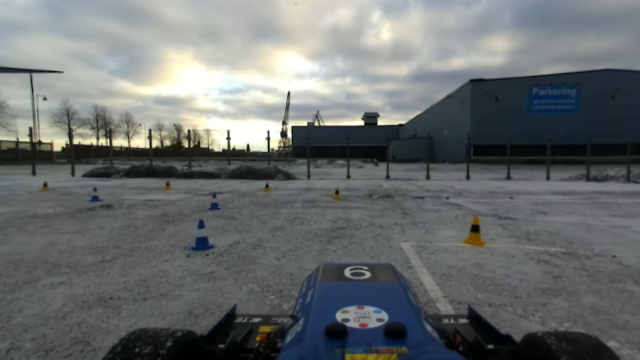blue: (187, 217, 216, 254), (87, 184, 102, 205), (208, 191, 220, 212)
yellow: (461, 213, 490, 250)
